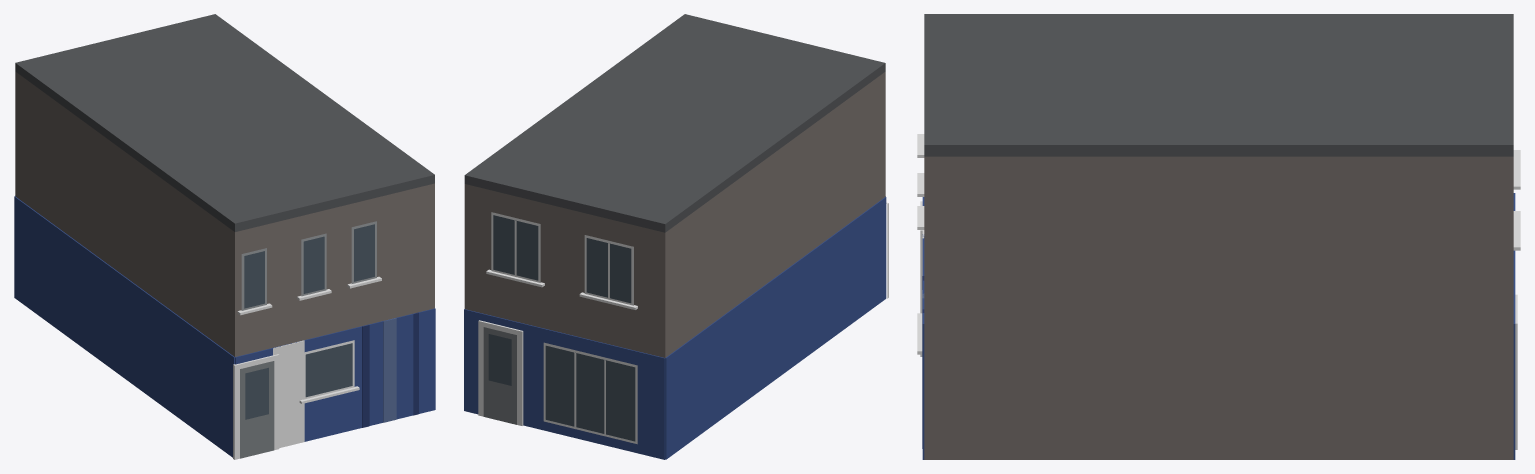
File: th-kz-row__blue__2__flat__long__solid.glb
3 views of the same model, side by side, from view 1: azimuth 30°, elevation 25°; view 2: azimuth 150°, elevation 25°; view 3: azimuth 270°, elevation 25° (orthographic). The views are drawn at different scales.
Parts seen in each view (by area): view 1: th-kz-row__blue__2__flat__long__solid; view 2: th-kz-row__blue__2__flat__long__solid; view 3: th-kz-row__blue__2__flat__long__solid.
Boxes of the visible parts, x1=… form: th-kz-row__blue__2__flat__long__solid: x1=14, y1=14, x2=435, y2=459; th-kz-row__blue__2__flat__long__solid: x1=464, y1=14, x2=888, y2=459; th-kz-row__blue__2__flat__long__solid: x1=917, y1=14, x2=1520, y2=459.
Size of the model in its own units: 5.43 by 6.03 by 10.46.
